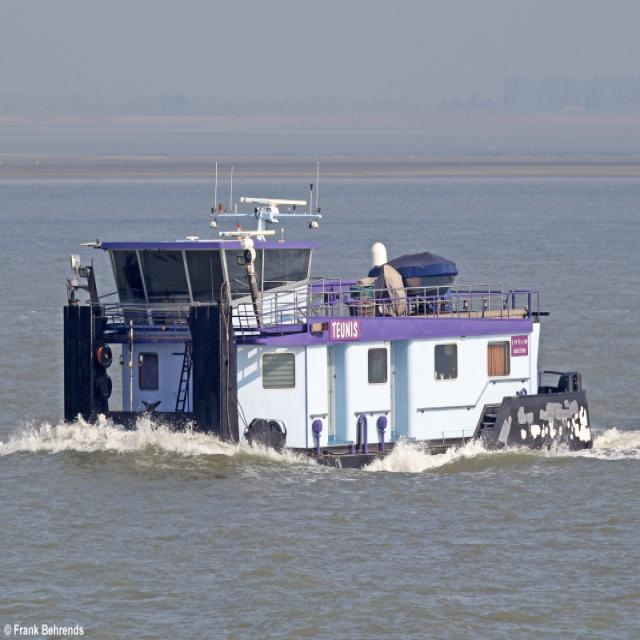tugboat: (59, 193, 598, 478)
